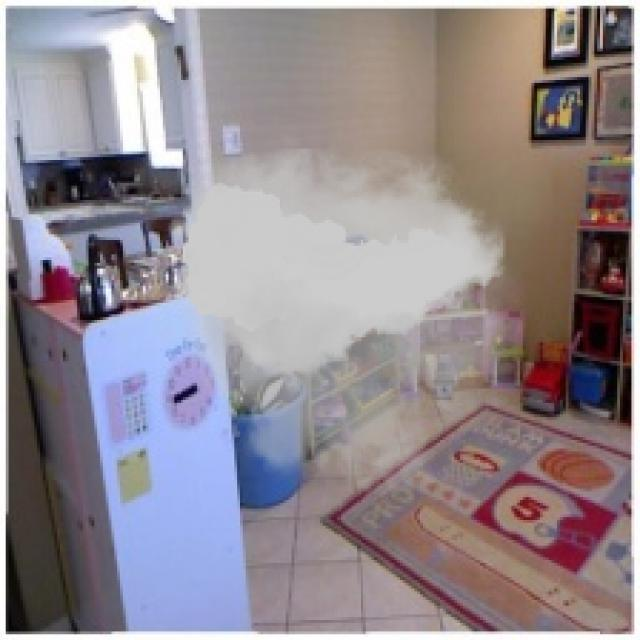Smoke: (157, 117, 529, 517)
